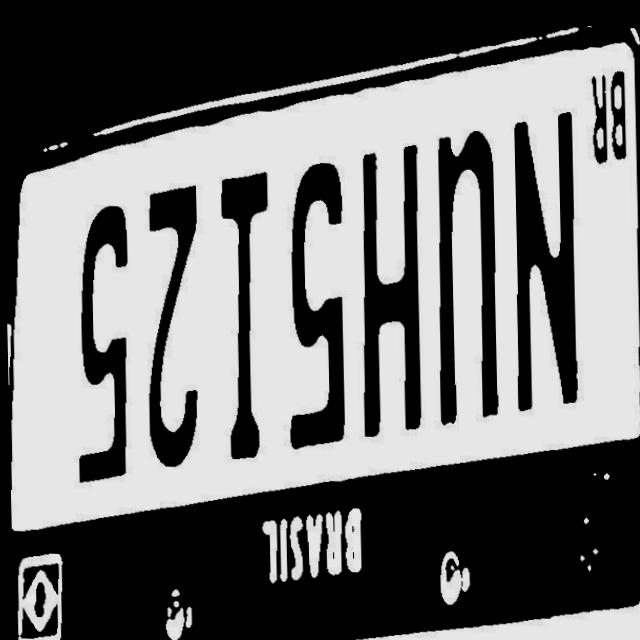2: (127, 194, 209, 494)
5: (273, 173, 351, 474), (60, 220, 130, 505)
h: (350, 155, 430, 457)
i: (206, 181, 276, 483)
n: (501, 104, 583, 428)
u: (426, 129, 507, 446)
